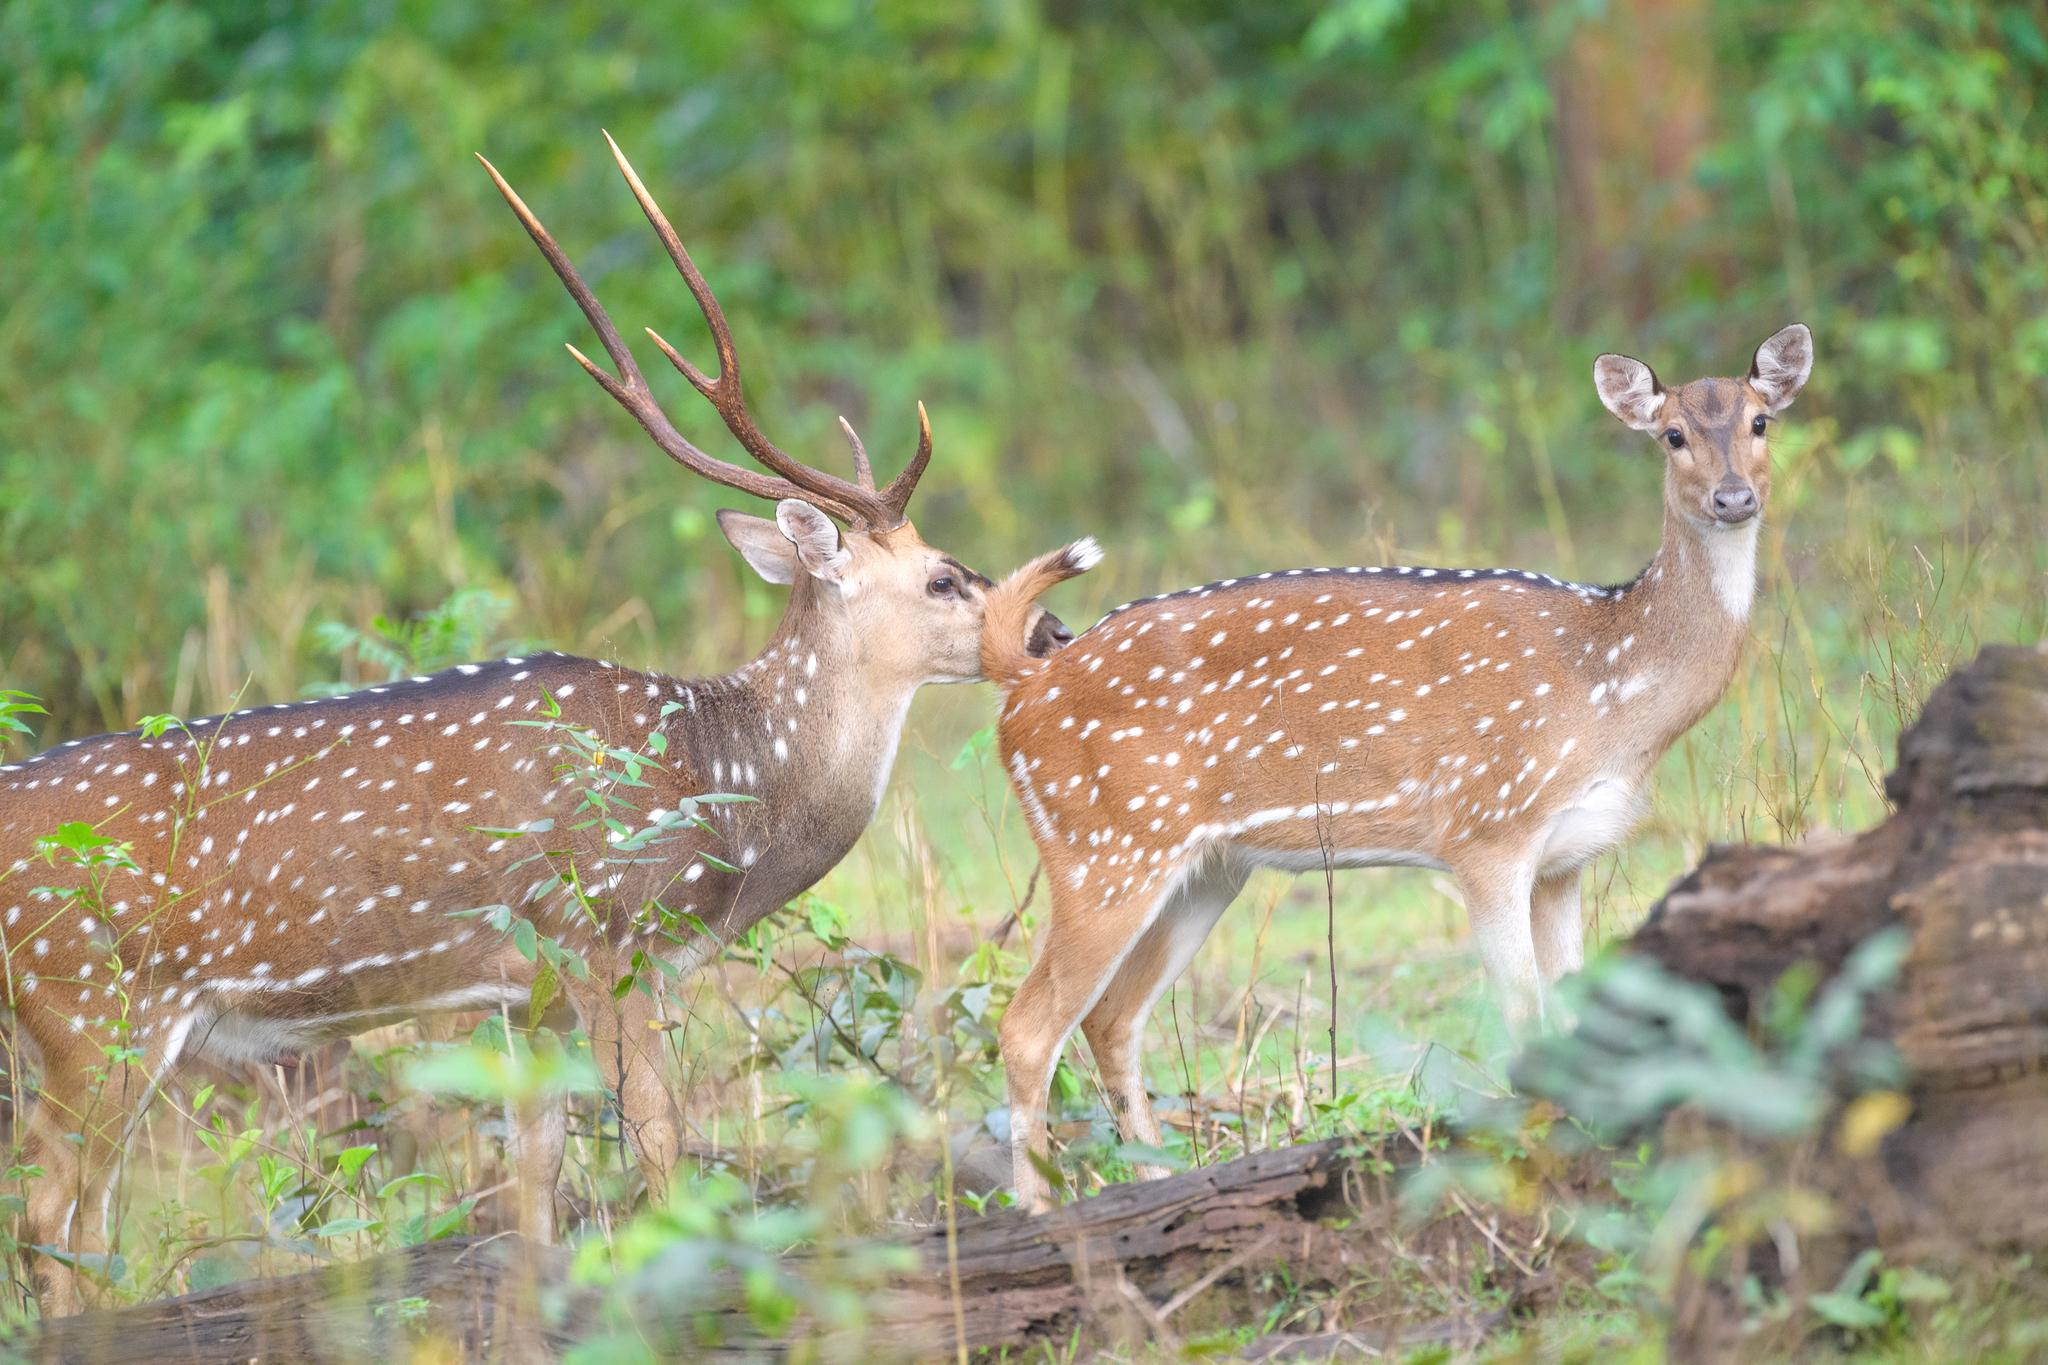Deer: (0, 139, 1020, 1299), (979, 324, 1810, 1213)
